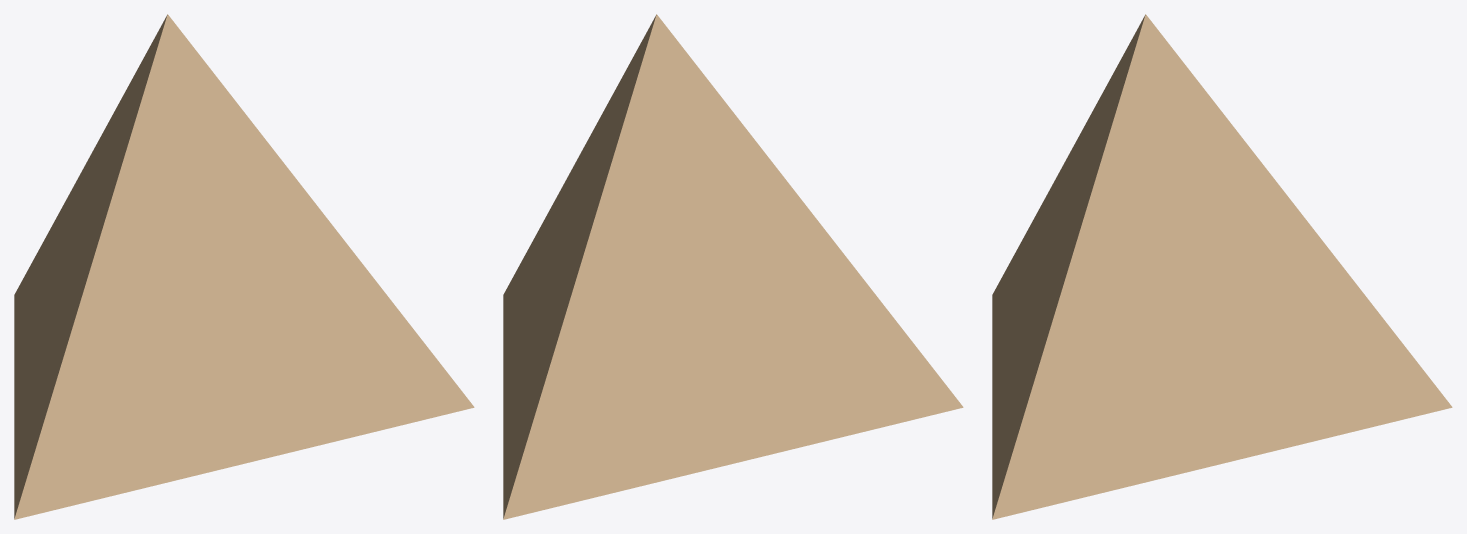
File: tetrahedron.glb
3 views of the same model, side by side, from view 1: azimuth 30°, elevation 25°; view 2: azimuth 150°, elevation 25°; view 3: azimuth 270°, elevation 25° (orthographic).
Parts seen in each view (by area): view 1: tetrahedron; view 2: tetrahedron; view 3: tetrahedron.
Boxes of the visible parts, x1,y1,x2,y2 form: tetrahedron: (14, 14, 474, 519); tetrahedron: (503, 14, 963, 519); tetrahedron: (992, 14, 1452, 519).
Size of the model in its own units: 2 by 1.63 by 1.73.
